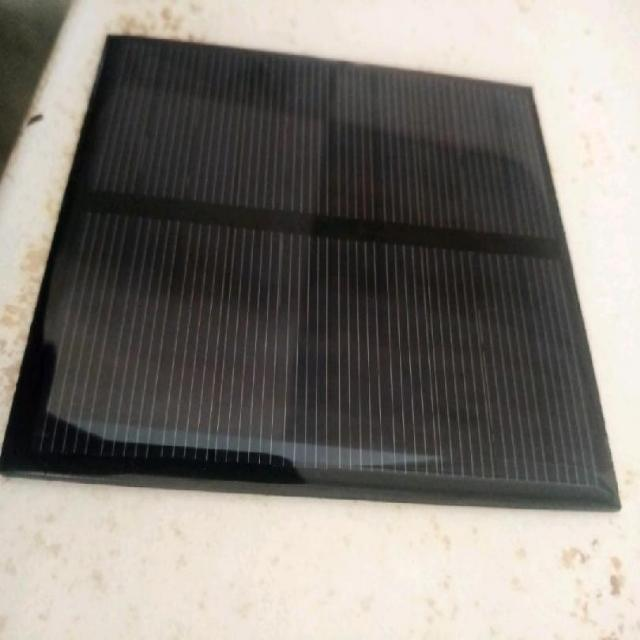Normal Solar Panel: (0, 36, 620, 508)
